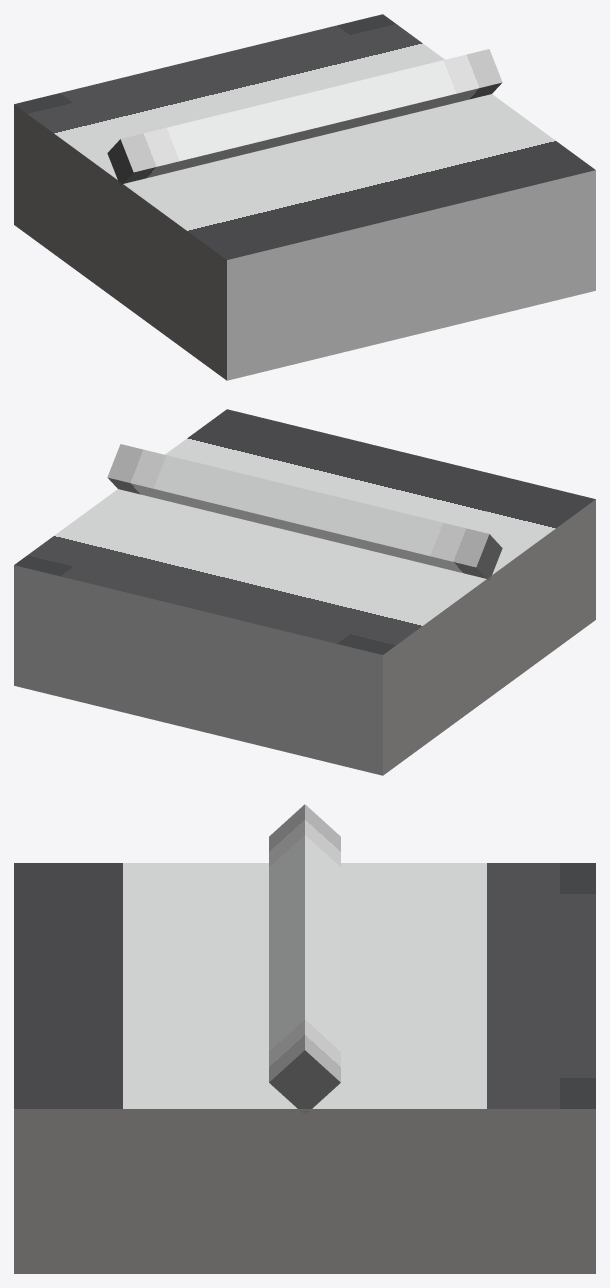
Rendered from crh2a_carport_mid_antenna_cable.obj.
3 views of the same model, one above another, from view 1: azimuth 30°, elevation 25°; view 2: azimuth 150°, elevation 25°; view 3: azimuth 270°, elevation 25° (orthographic). The views are drawn at different scales.
Parts seen in each view (by area): view 1: carport_top, mesh; view 2: carport_top, mesh; view 3: carport_top, mesh.
Part boxes in pixels (x1,y1,x2,y2): carport_top: [14, 14, 595, 380]; mesh: [107, 49, 502, 186]; carport_top: [14, 409, 595, 775]; mesh: [107, 444, 502, 580]; carport_top: [14, 863, 595, 1273]; mesh: [269, 804, 340, 1113].
Size of the model in its own units: 1 by 0.4244 by 1.
